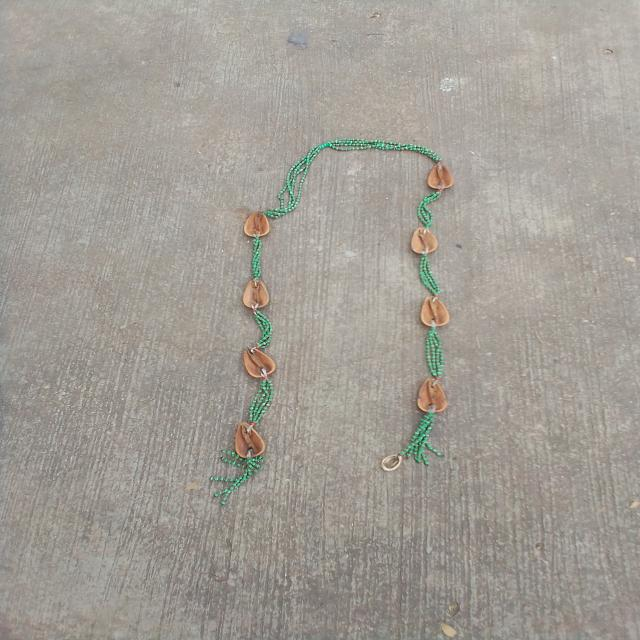faceup: (412, 373, 451, 417), (228, 419, 266, 462), (240, 344, 278, 382), (240, 272, 272, 312), (416, 295, 451, 331), (425, 160, 456, 199), (242, 208, 273, 240), (408, 227, 440, 258)
